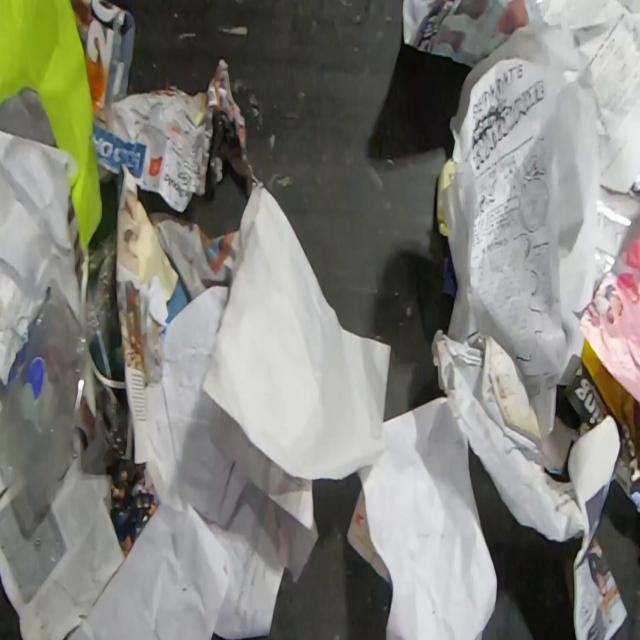cardboard: (564, 338, 640, 513)
rigid_plastic: (0, 277, 90, 539)
